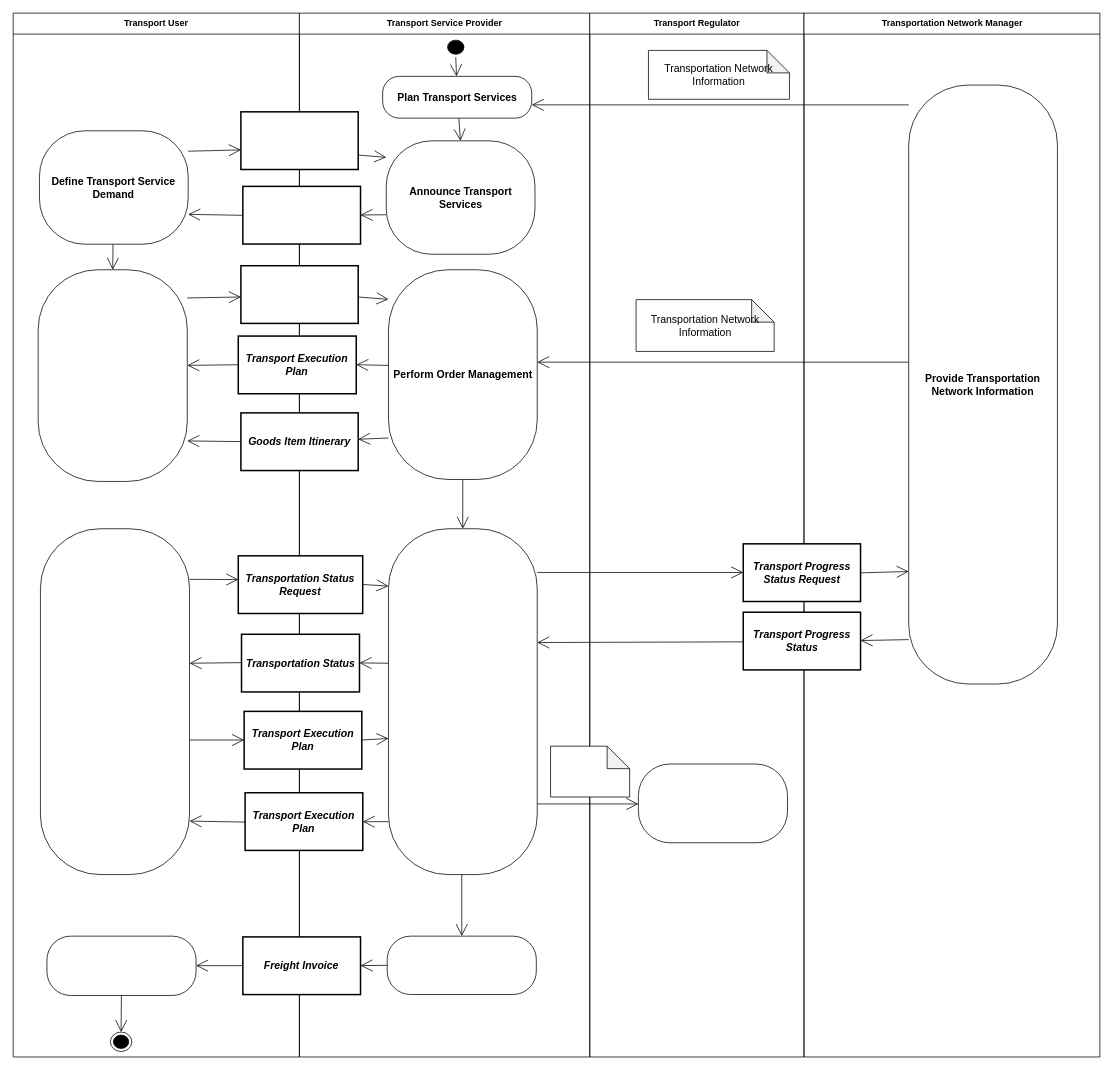
Some shapes in this 1113 by 1070 pixel diagram are drawn without their labels. The centre of each missing label's shape, as x and y in pixels:
"Execute Transport Services" goes at pixel 462 701.
"Finalize Transport Services" goes at pixel 121 965.
"Manage Completion" goes at pixel 461 964.
"Monitor and Control Transport Services" goes at pixel 115 701.
"Perform Booking Management" goes at pixel 112 375.
"Perform Compliance Management" goes at pixel 713 803.
"Regulatory Information" goes at pixel 590 771.
"Transport Execution Plan Request" goes at pixel 299 294.
"Transport Service Description" goes at pixel 301 214.
"Transport Service Description Request" goes at pixel 299 140.
